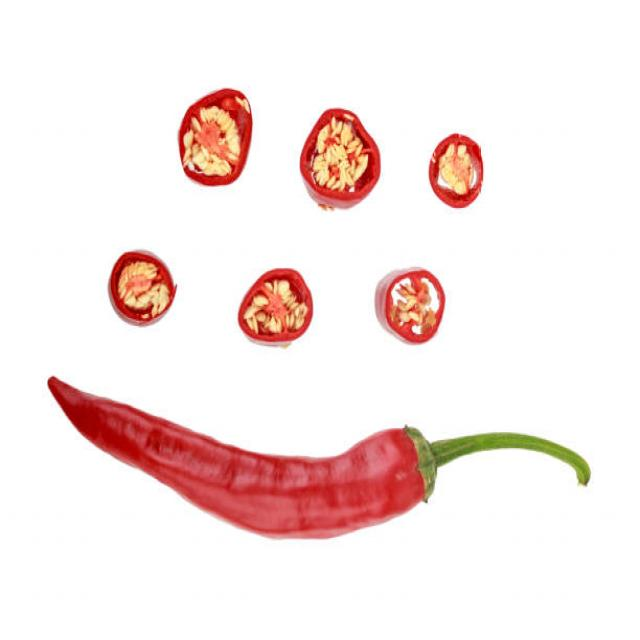red chili: (47, 377, 592, 539), (301, 109, 381, 207), (179, 89, 252, 185), (238, 268, 313, 343), (376, 270, 445, 343), (110, 252, 176, 324), (430, 133, 484, 207)
